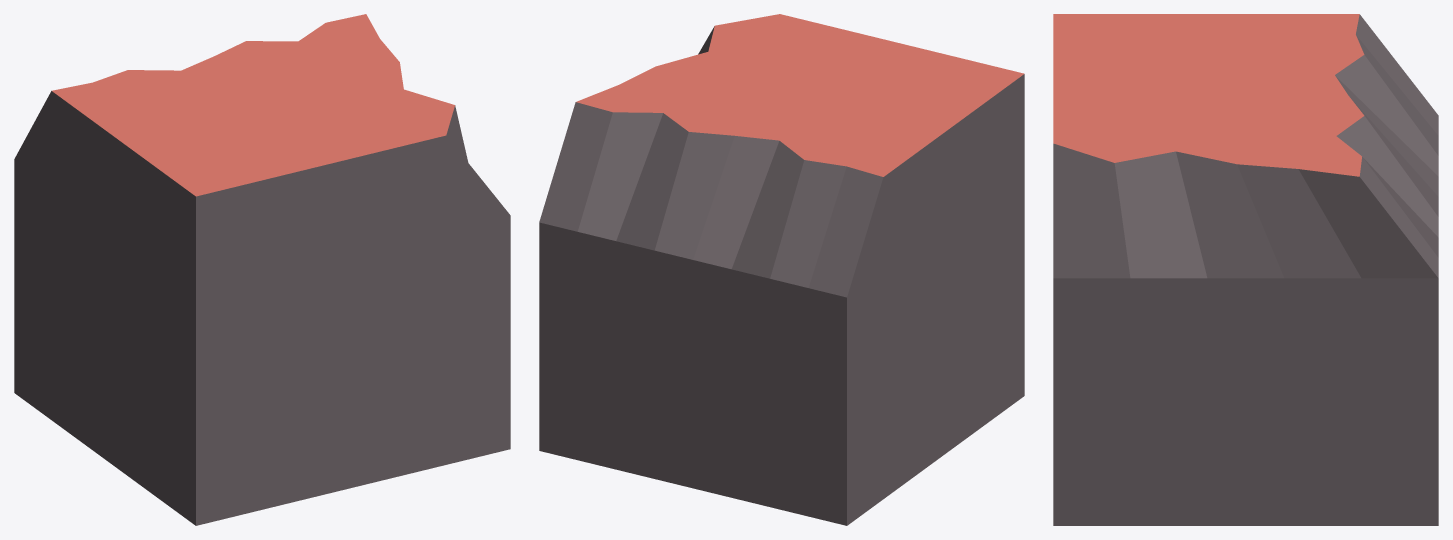
File: corner.fbx
The picture shows the model from 3 angles, left to right: view 1: azimuth 30°, elevation 25°; view 2: azimuth 150°, elevation 25°; view 3: azimuth 270°, elevation 25°; orthographic projection. The views are drawn at different scales.
Parts seen in each view (by area): view 1: corner; view 2: corner; view 3: corner.
Part boxes in pixels (<box>): corner: <box>14,14,510,525</box>; corner: <box>539,14,1024,525</box>; corner: <box>1053,14,1438,525</box>.
Bounding box in the file's own units: 200 × 200 × 200.
